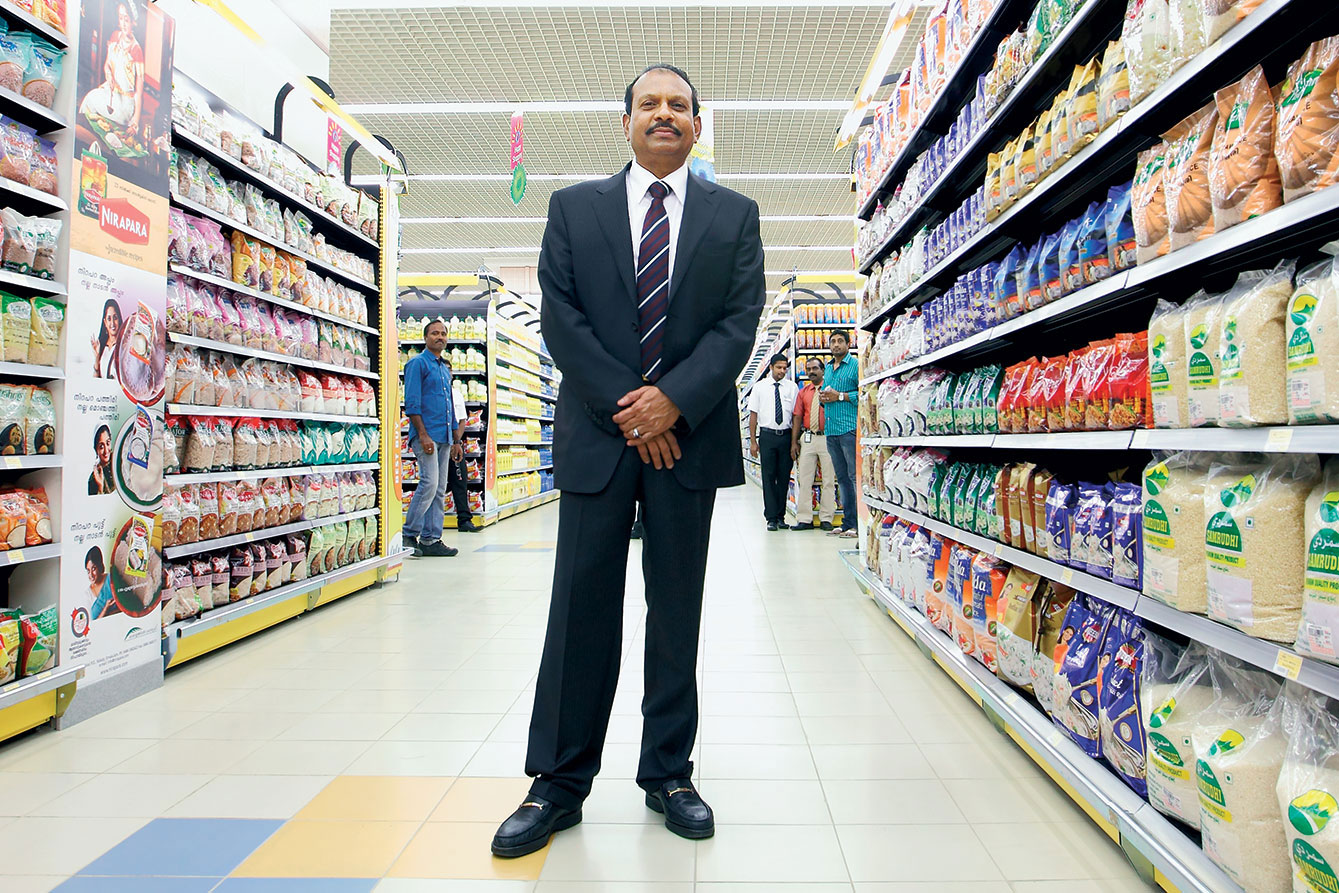Age_20_30: (770, 355, 789, 382)
Age_30_40: (416, 315, 460, 352), (826, 328, 852, 356)
Age_40_50: (622, 67, 716, 168)
E_Indian: (622, 67, 716, 168), (416, 315, 460, 352), (826, 328, 852, 356), (770, 355, 789, 382)
Emotion_Happy: (622, 67, 716, 168), (416, 315, 460, 352)
Emotion_Neutral: (826, 328, 852, 356), (770, 355, 789, 382)
G_Male: (622, 67, 716, 168), (416, 315, 460, 352), (826, 328, 852, 356), (770, 355, 789, 382)
